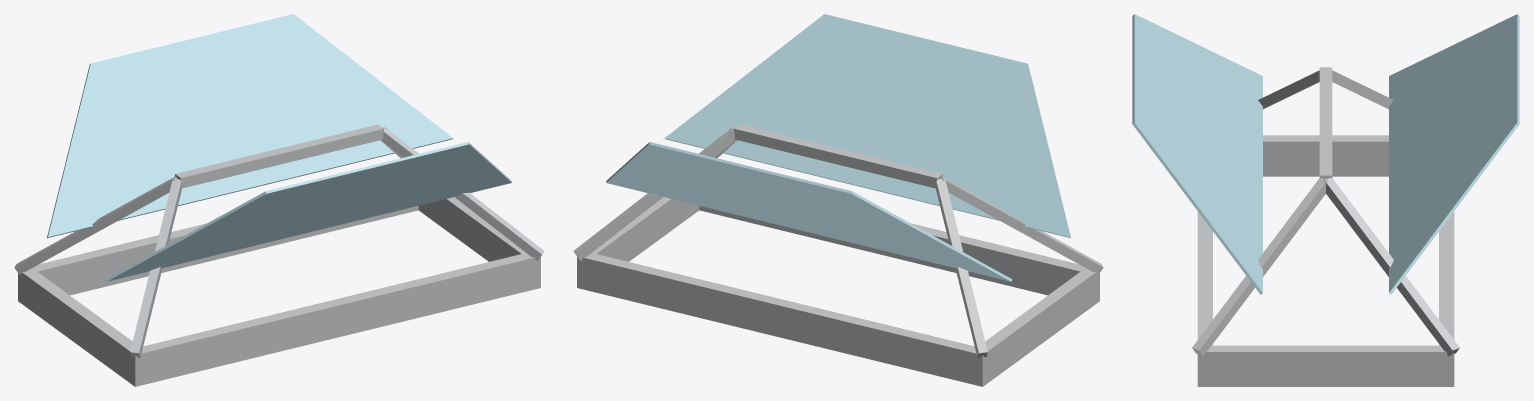
Rendered from roof.rooflight.lantern.glb.
The picture shows the model from 3 angles, left to right: view 1: azimuth 30°, elevation 25°; view 2: azimuth 150°, elevation 25°; view 3: azimuth 270°, elevation 25°; orthographic projection. The views are drawn at different scales.
Parts seen in each view (by area): view 1: main__glass, main__aluminium; view 2: main__glass, main__aluminium; view 3: main__glass, main__aluminium.
Boxes of the visible parts, bbox=[...] form: main__glass: bbox=[47, 14, 511, 281]; main__aluminium: bbox=[14, 124, 544, 386]; main__glass: bbox=[606, 14, 1070, 281]; main__aluminium: bbox=[573, 124, 1103, 386]; main__glass: bbox=[1132, 14, 1519, 294]; main__aluminium: bbox=[1192, 67, 1459, 386].
Size of the model in its own units: 2.04 by 0.9042 by 1.51.
